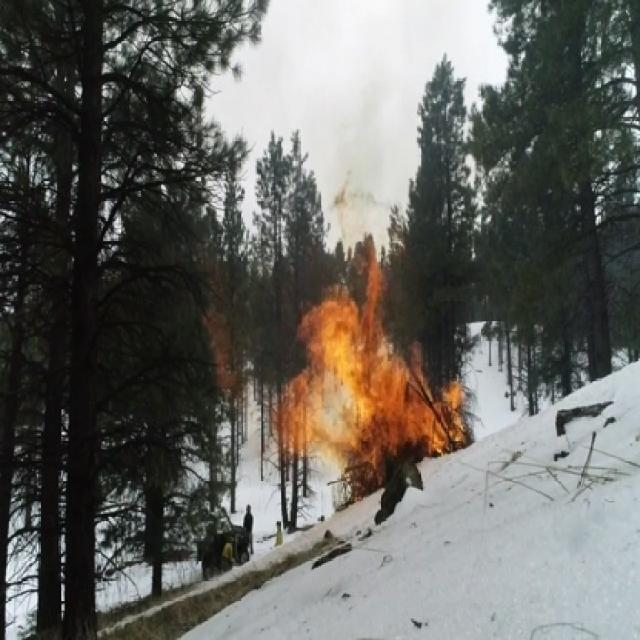Fire: (269, 230, 474, 492)
